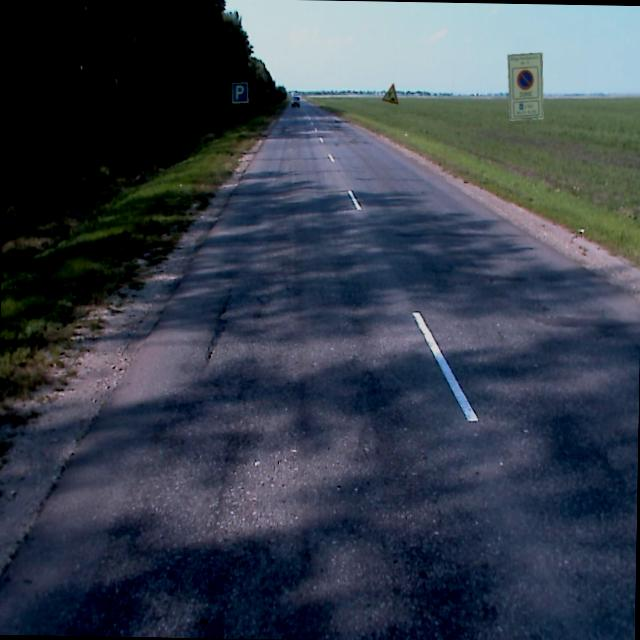road: (0, 99, 640, 640)
